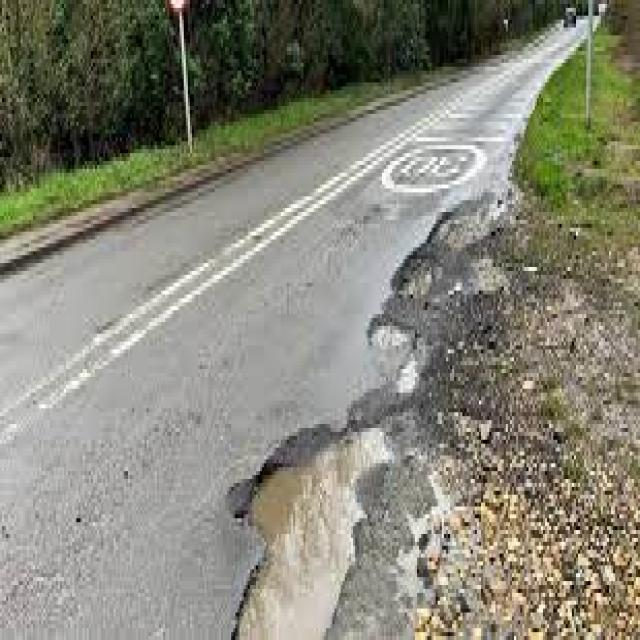Pothole: (227, 424, 401, 640)
